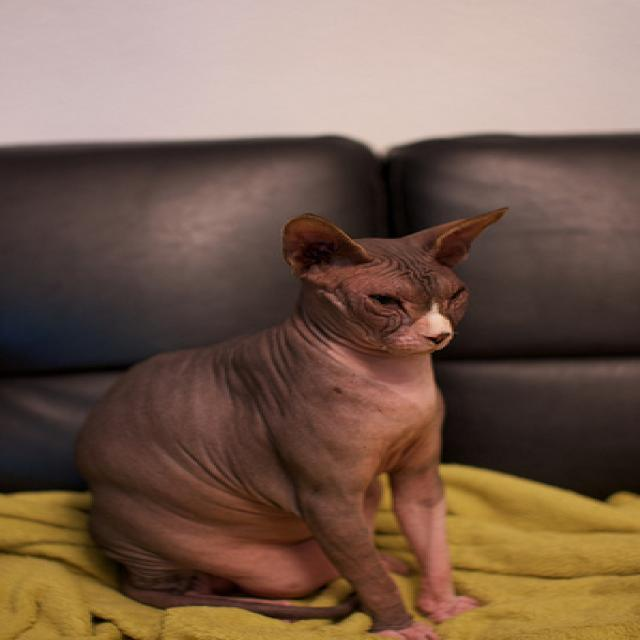Sphynx: (68, 197, 511, 640)
